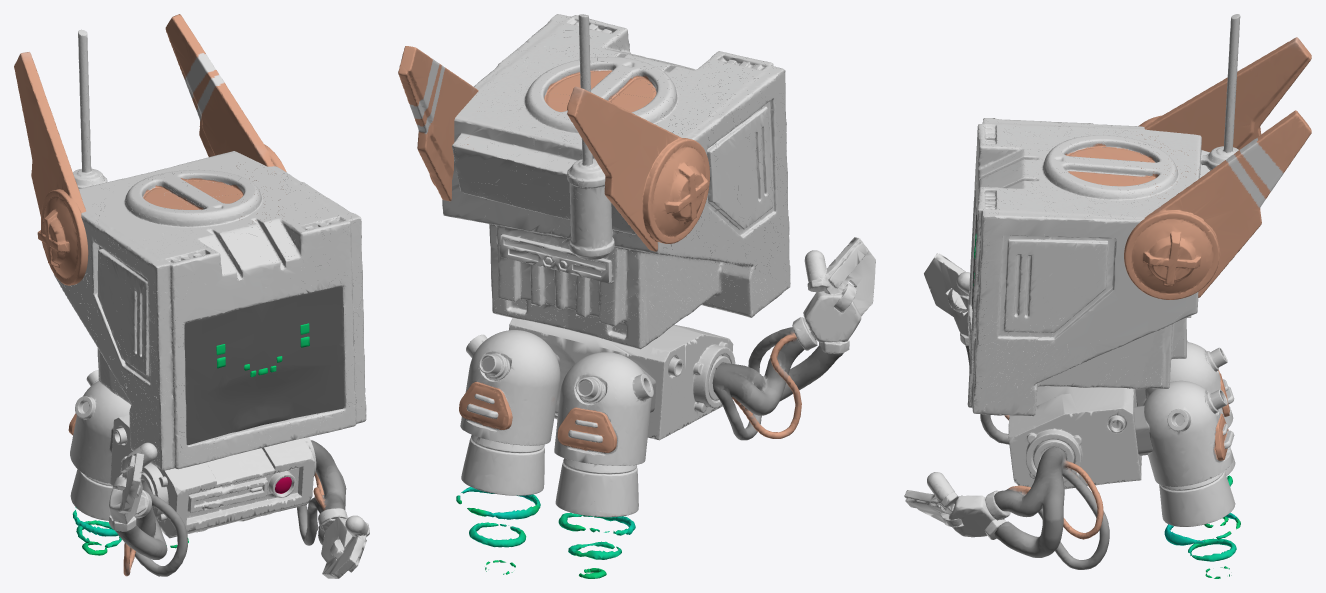
Rendered from cute_robot.gltf.
3 renders of one model, left to right at view 1: azimuth 30°, elevation 25°; view 2: azimuth 150°, elevation 25°; view 3: azimuth 270°, elevation 25°, orthographic. The views are drawn at different scales.
Visible parts, largest first — view 1: head, faceplate, fins, body, wre, rockets, Lhnd, Rhnd, emiss; view 2: head, rockets, fins, body, wre, Rhnd, emiss; view 3: head, fins, rockets, body, wre, Lhnd, Rhnd, emiss.
Part boxes in pixels (x1,y1,x2,y2): head: (54,29,366,470); faceplate: (174,281,349,447); fins: (14,14,286,285); body: (110,415,316,538); wre: (115,440,346,576); rockets: (68,370,131,520); Lhnd: (318,508,369,578); Rhnd: (109,442,157,531); emiss: (72,323,309,555); head: (442,14,790,349); rockets: (459,330,656,517); fins: (398,46,709,251); body: (509,318,735,440); wre: (712,327,843,440); Rhnd: (792,237,875,353); emiss: (456,487,635,578); head: (967,14,1240,416); fins: (1124,37,1311,299); rockets: (1134,340,1235,526); body: (1008,386,1141,489); wre: (965,345,1109,569); Lhnd: (904,472,1010,539); Rhnd: (924,253,969,345); emiss: (973,234,1240,578).
Bounding box in the file's own units: 1.05 × 1.88 × 1.34.
